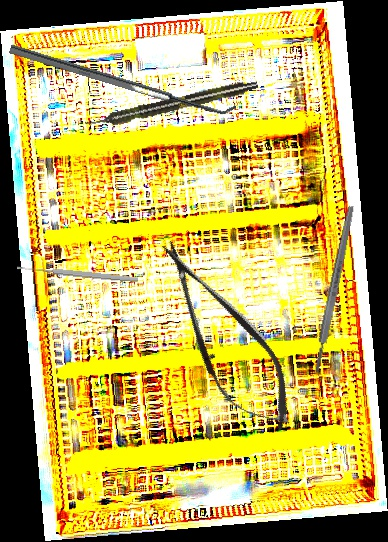Handpiece: (83, 77, 260, 132)
Micro Scissor: (137, 226, 311, 447)
Scalpel Handle: (311, 203, 357, 376)
Spatula Surgical: (8, 35, 238, 122)
Surgical Spoon: (16, 263, 139, 284)
